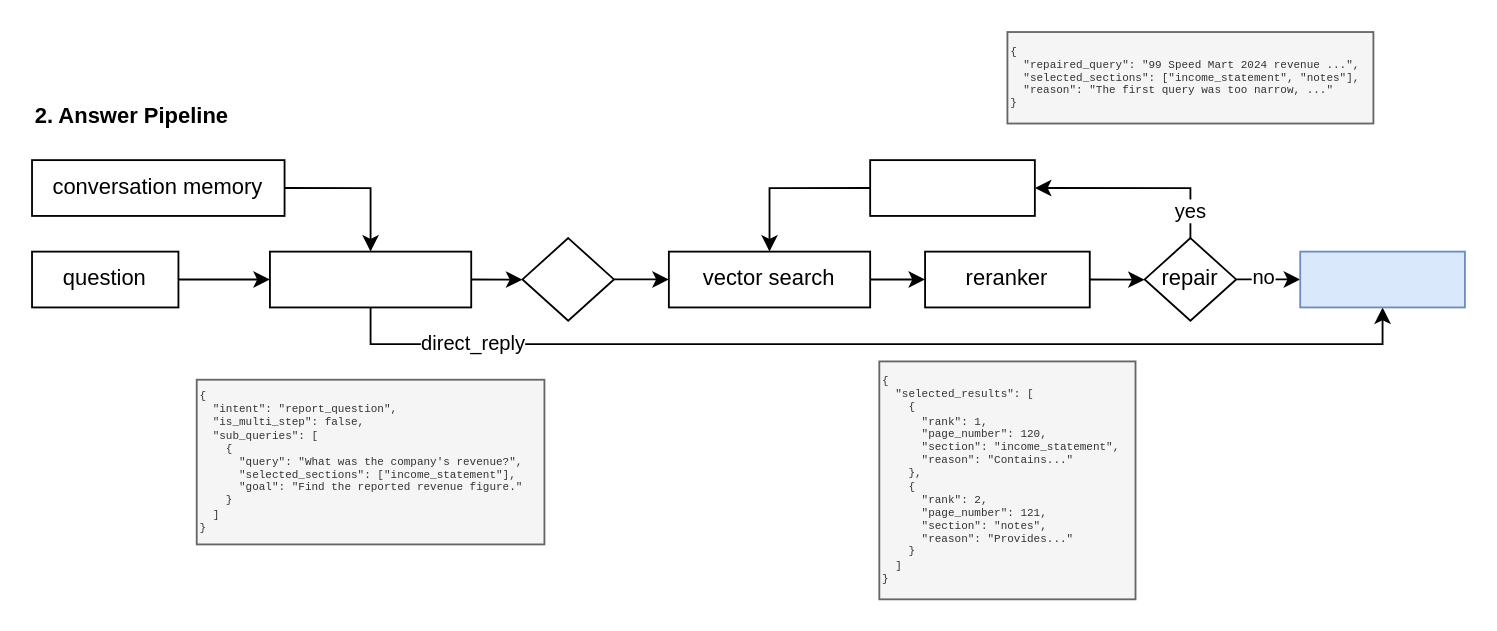
This 1497x631 diagram has some shape labels left out. The shapes that lost their labels are listed below. From the top down, each one's centre as x and y in pixels, then its label:
At point (951, 187): "retrieval repair".
At point (369, 278): "planner agent".
At point (567, 278): "intent".
At point (1381, 278): "answer".
